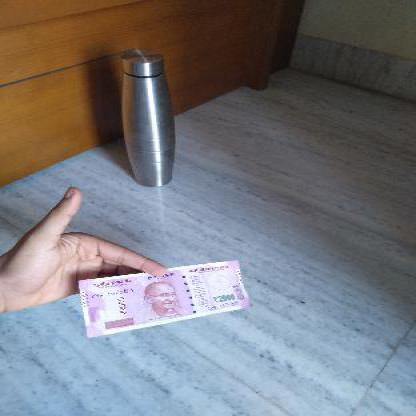New2000Front: (65, 262, 255, 327)
